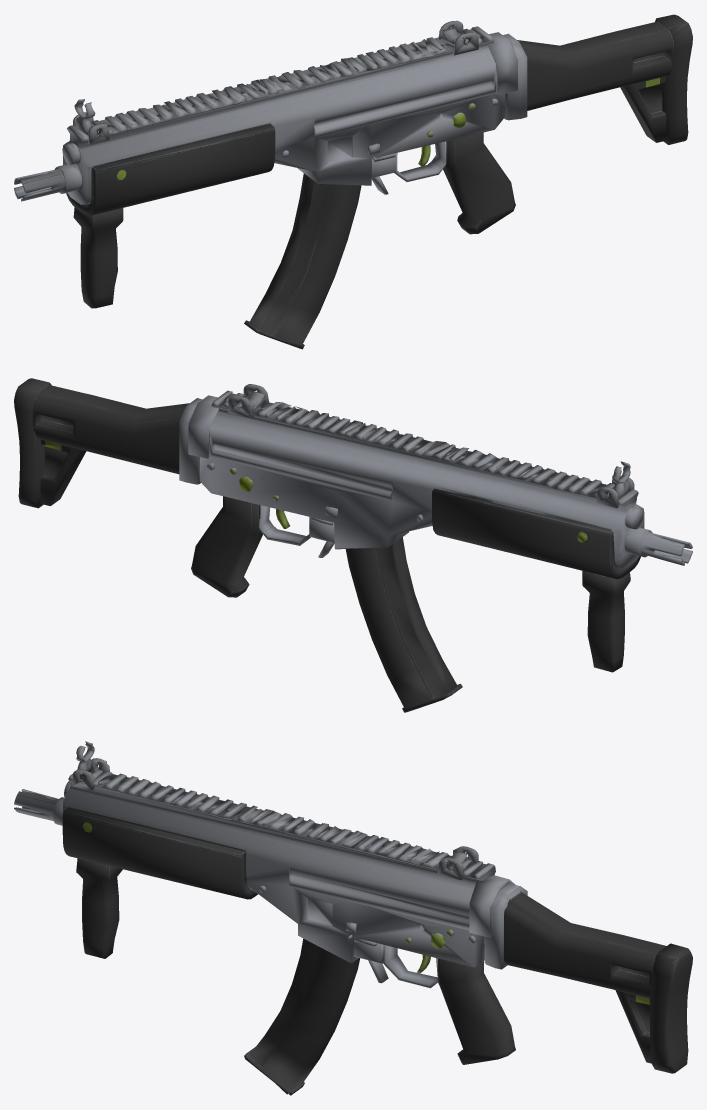
File: smg_jackal.glb
3 renders of one model, top to bottom at view 1: azimuth 30°, elevation 25°; view 2: azimuth 150°, elevation 25°; view 3: azimuth 330°, elevation 25°, orthographic.
Bounding box in the file's own units: 0.9575 × 0.4072 × 0.0879.
Materials: 1 (1 with a texture image).
